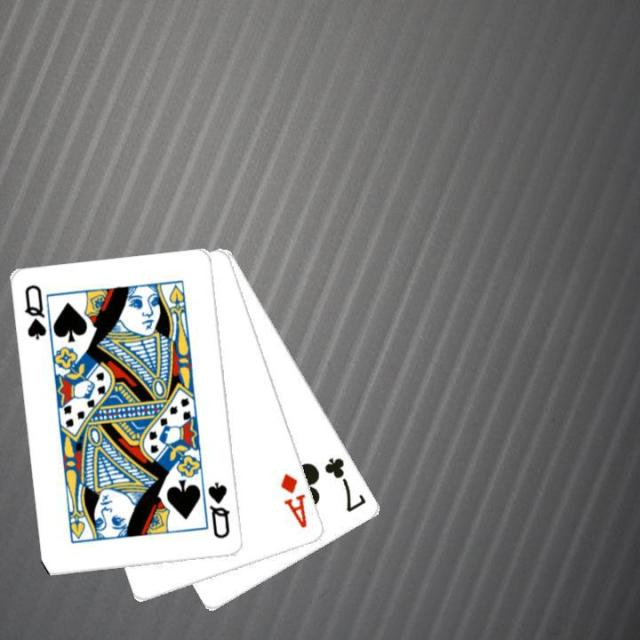7C: (321, 453, 369, 514)
AD: (278, 469, 310, 531)
QS: (20, 281, 49, 342), (204, 478, 232, 540)
